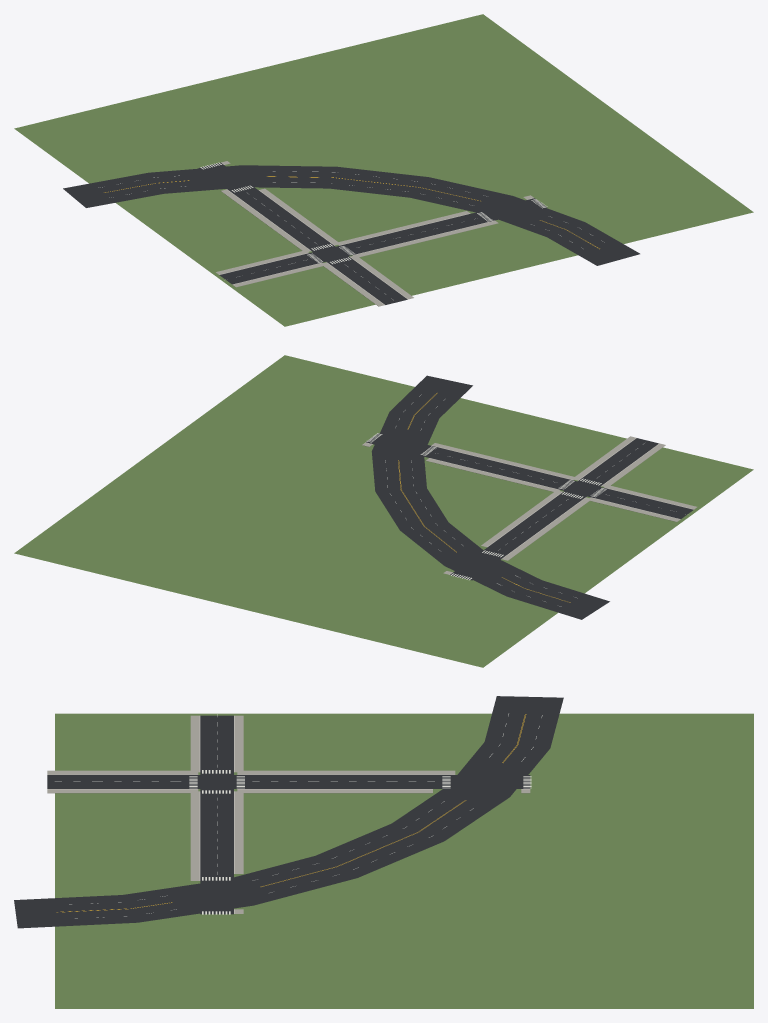
Rendered from Ground_7_7.fbx.
3 views of the same model, one above another, from view 1: azimuth 30°, elevation 25°; view 2: azimuth 150°, elevation 25°; view 3: azimuth 270°, elevation 25° (orthographic). The views are drawn at different scales.
Parts seen in each view (by area): view 1: Ground_7_7; view 2: Ground_7_7; view 3: Ground_7_7.
Part boxes in pixels (bbox=[...]): Ground_7_7: bbox=[14, 14, 753, 326]; Ground_7_7: bbox=[14, 355, 753, 667]; Ground_7_7: bbox=[14, 696, 753, 1008].
Bounding box in the file's own units: 265 × 0.1 × 265.
